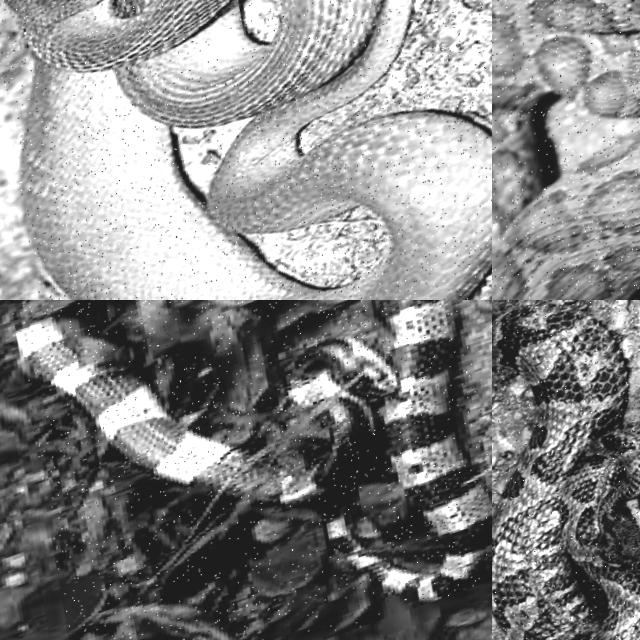Bungarus candidus: (294, 300, 491, 602)
Daboia siamensis: (492, 0, 639, 299)
Ovophis monticola: (492, 303, 639, 639)
Trimeresurus: (6, 0, 491, 299)
snake: (6, 0, 491, 299), (294, 300, 491, 602), (492, 303, 639, 639), (492, 0, 639, 299)
